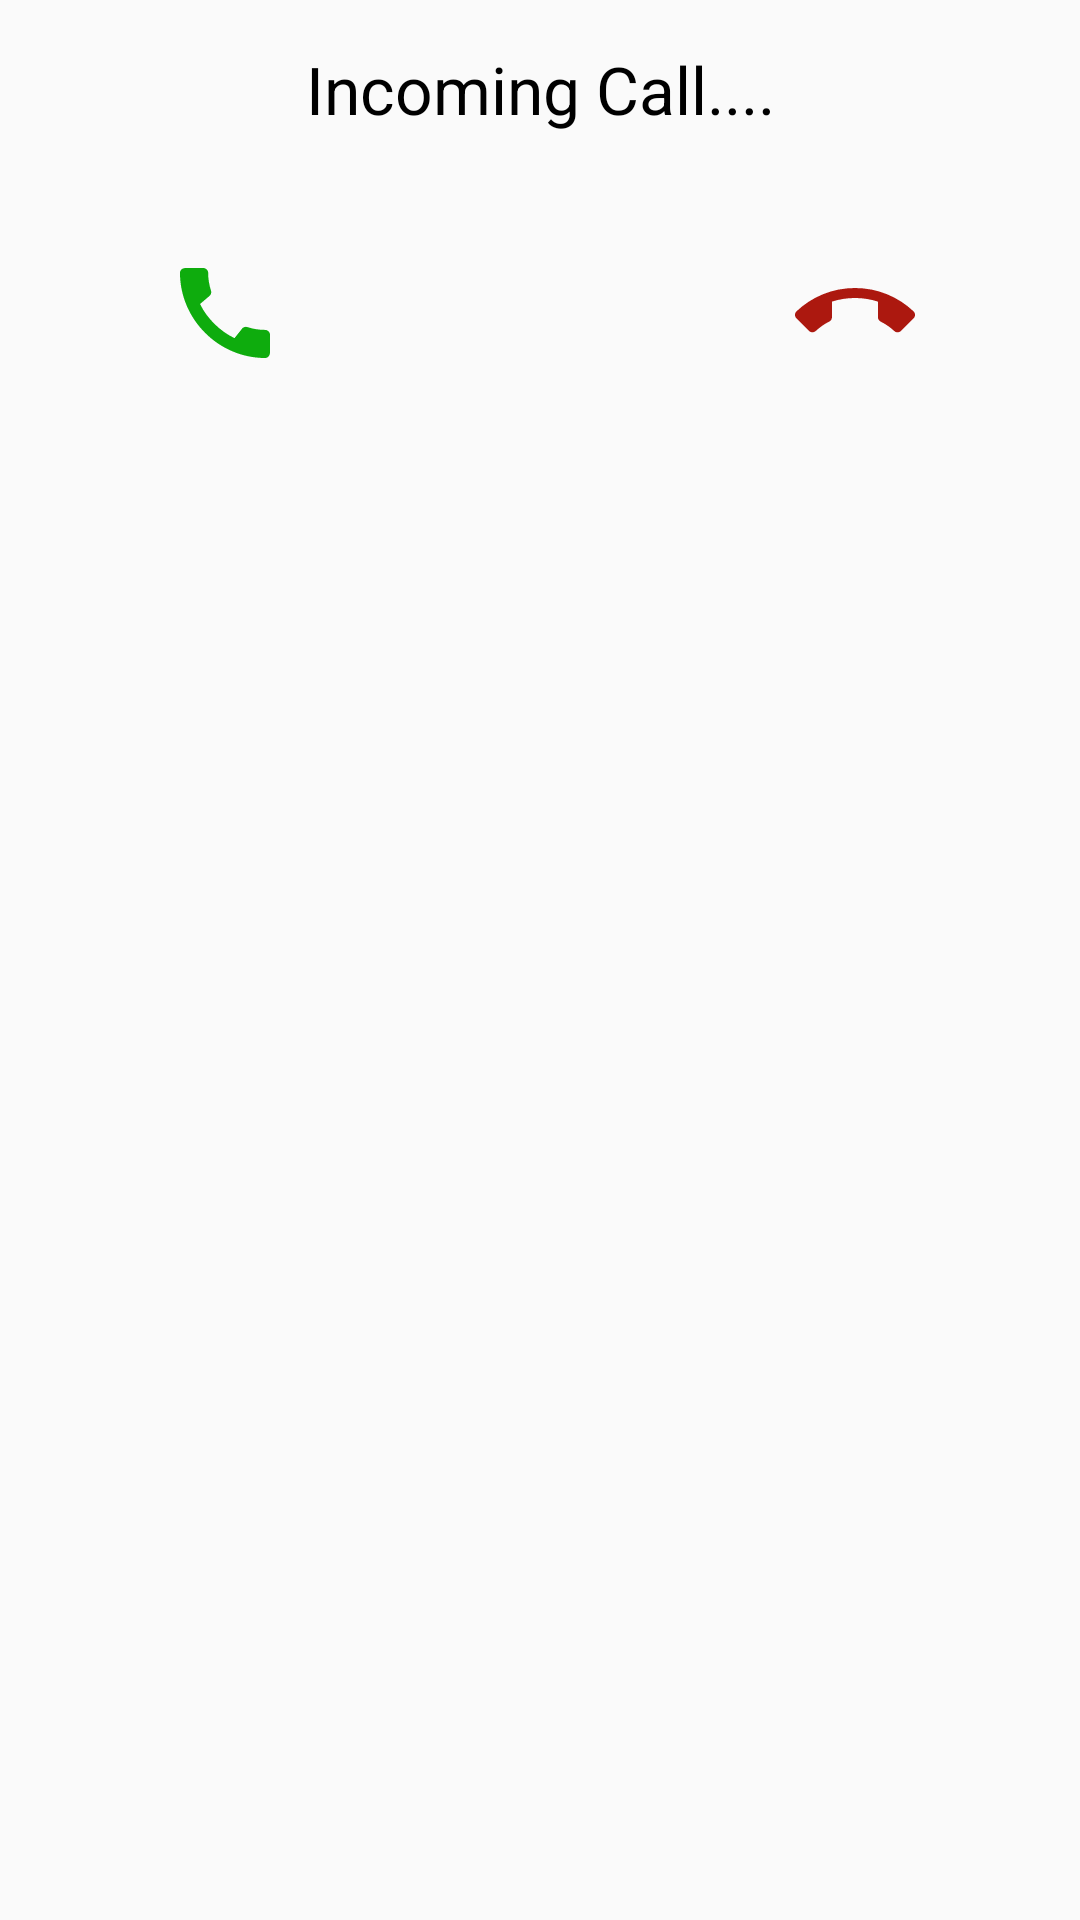

Icon bounding boxes for this 1080w x 1920h phone screenshot, format (x1, y1, x2, y2):
call accept: (180, 268, 270, 358)
call end: (795, 288, 915, 333)
